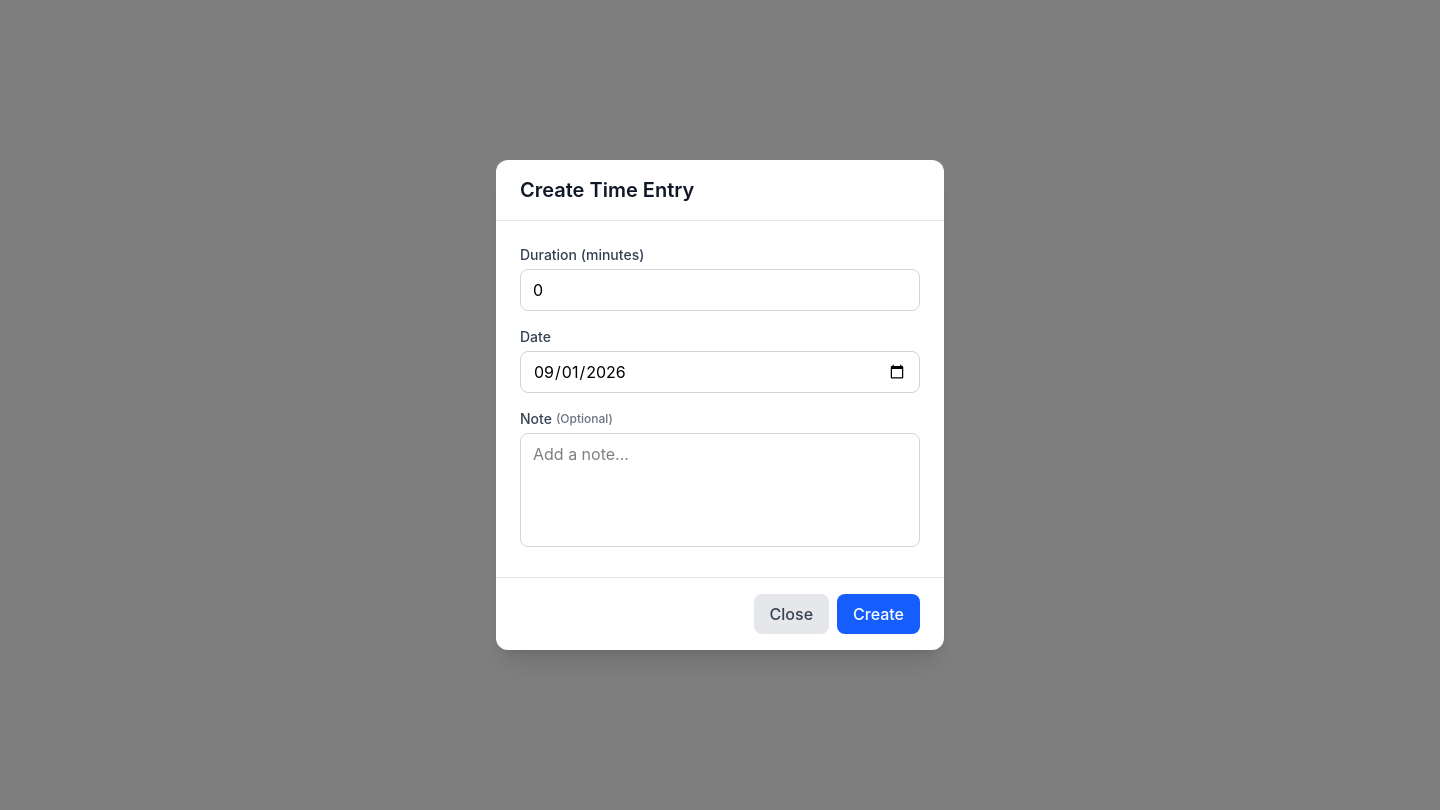
TimeEntryManageModal › validation › should display validation errors when date is missing
Replace the text in the number field with "60" at x=720, y=290, box [520,269,920,311]
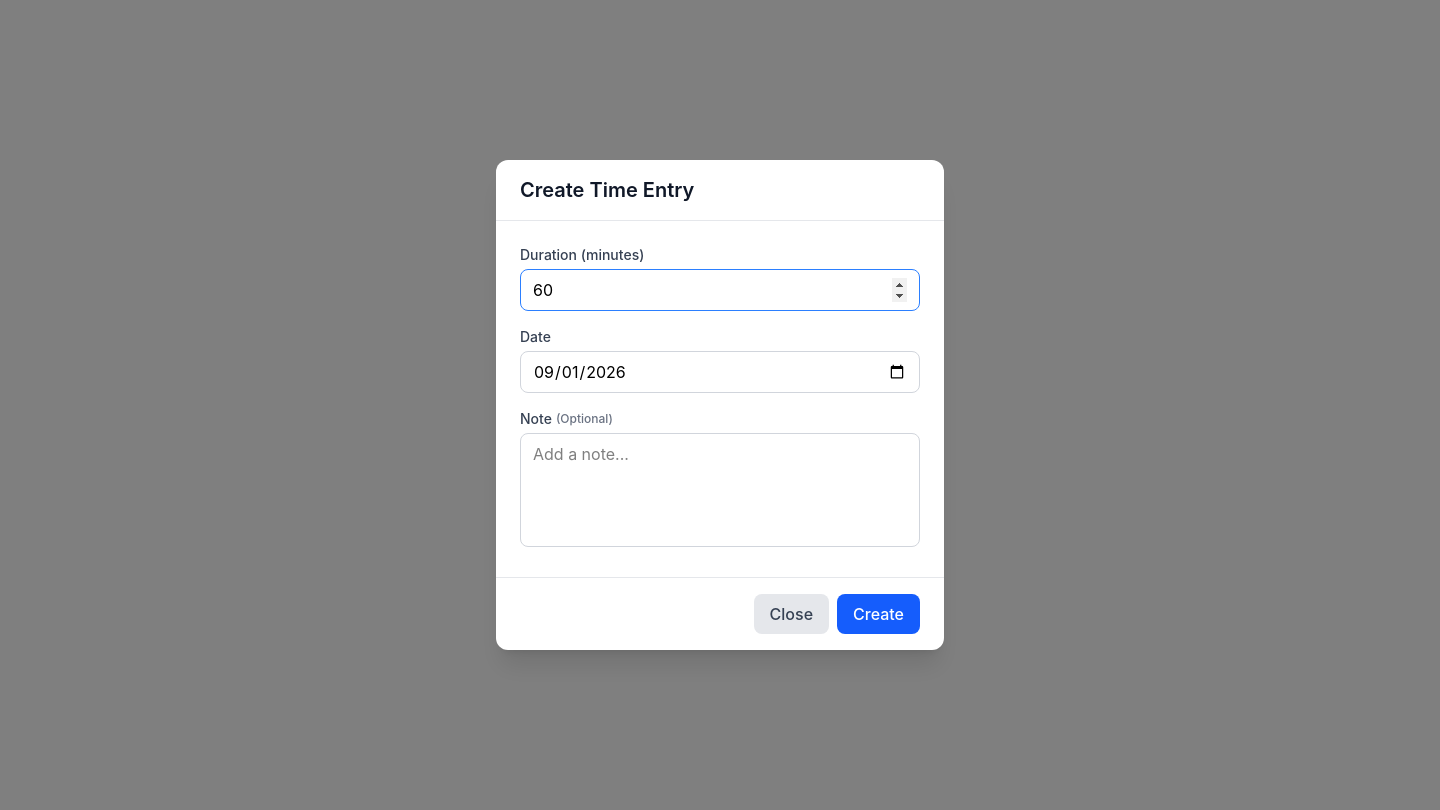
Clear the date field at x=720, y=372, box [520,351,920,393]
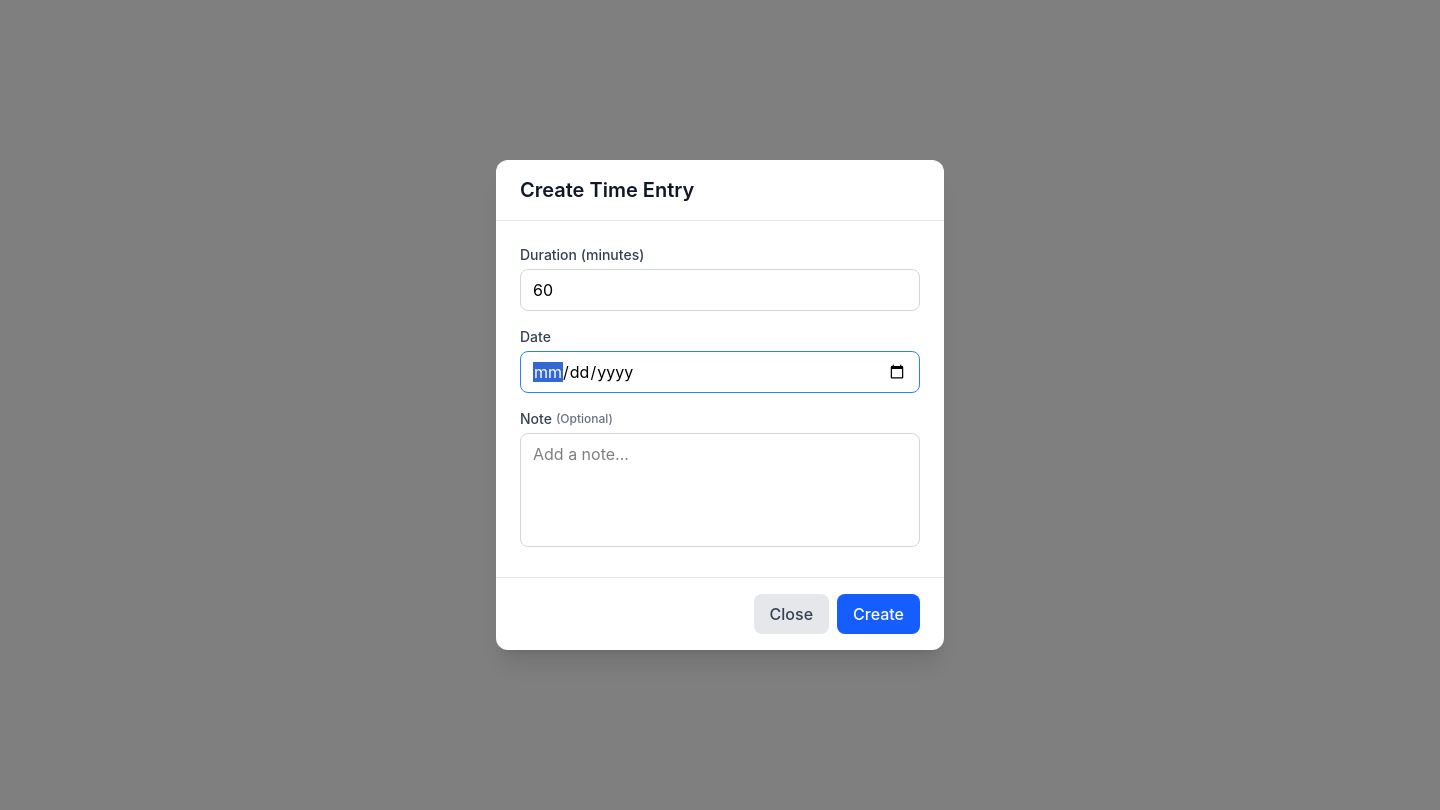
Click the button "Create" at x=878, y=614, box [837,594,920,634]
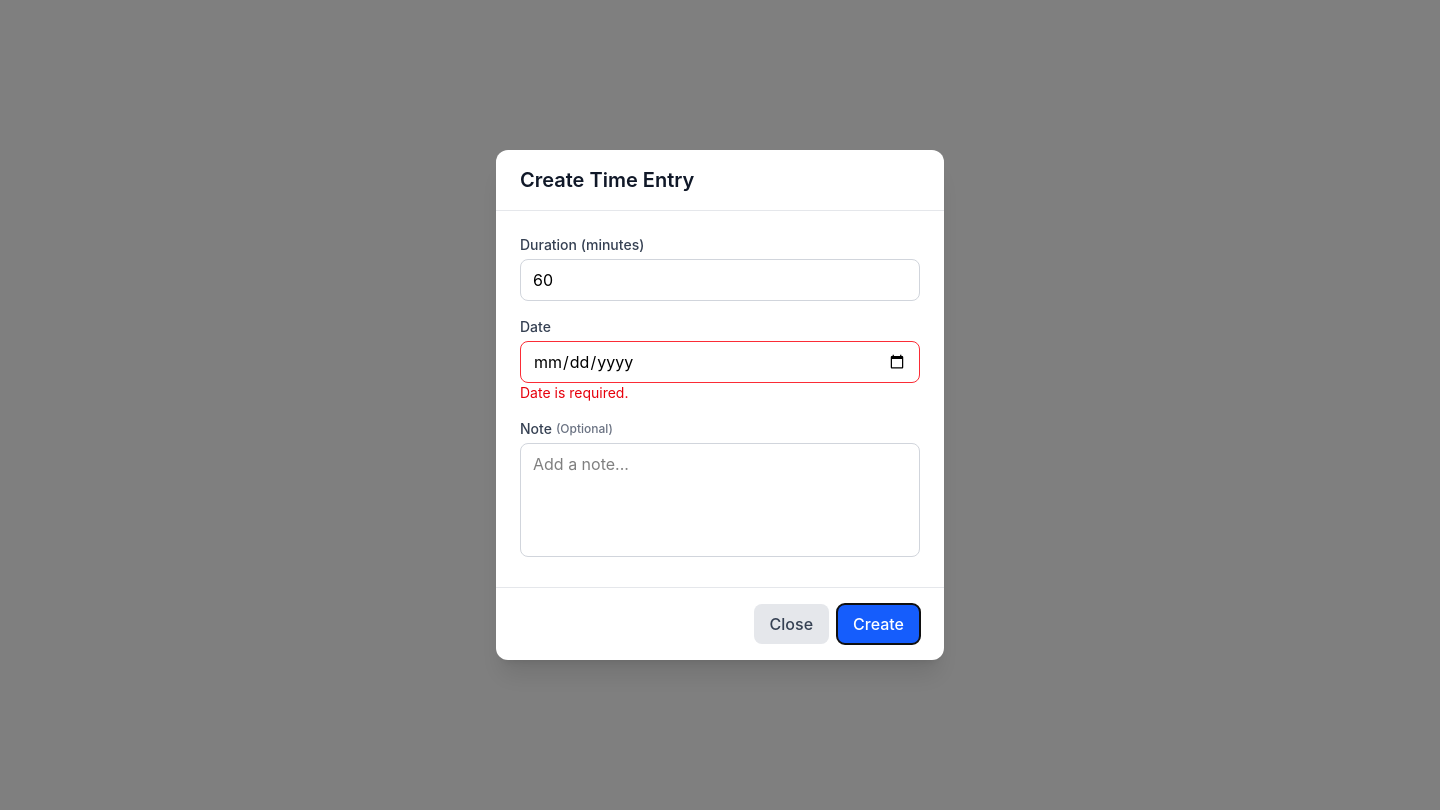
Result: the text "Date is required." is shown at [520,384,628,401]
